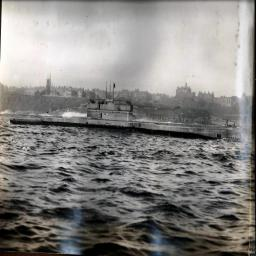submarine: (6, 95, 244, 145)
